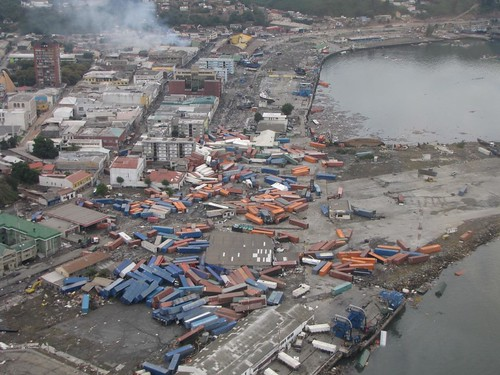building: (114, 136, 200, 198), (138, 86, 224, 148), (175, 57, 238, 89), (31, 41, 70, 91)
debris: (71, 138, 438, 365)
sea: (340, 229, 500, 375), (316, 39, 498, 142)
